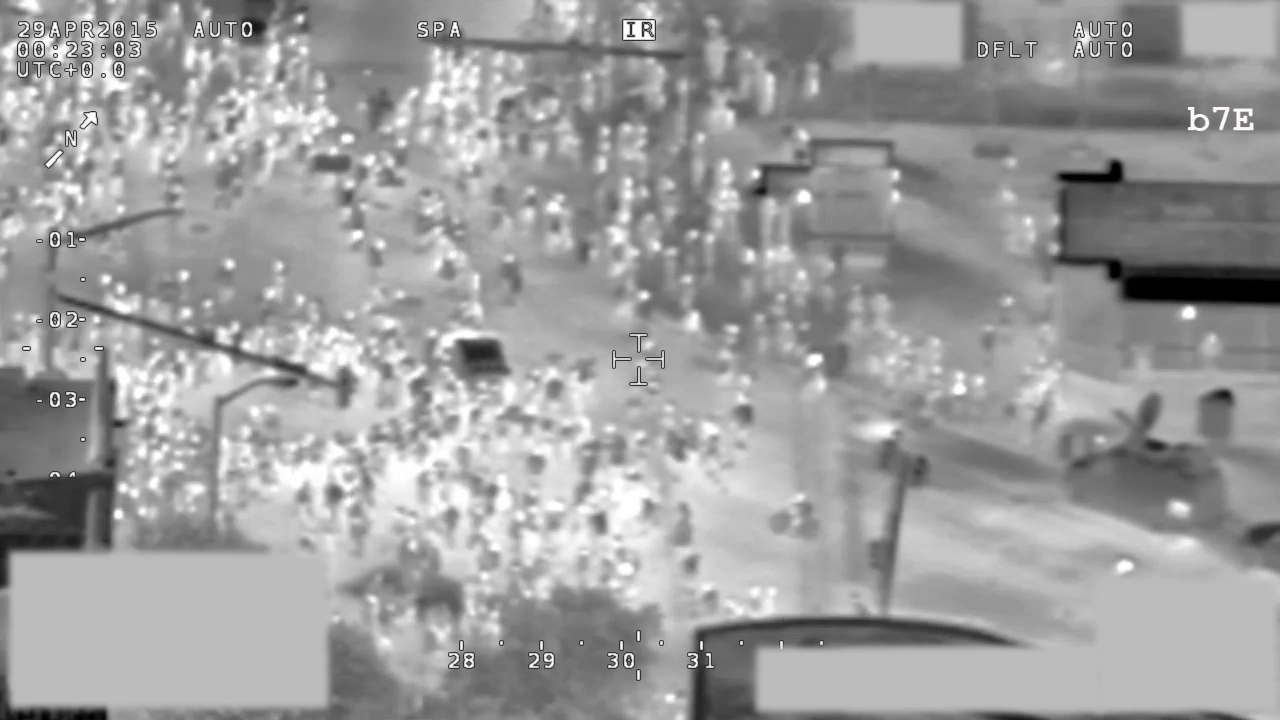vehicle: (1059, 386, 1230, 546), (429, 322, 518, 417)
